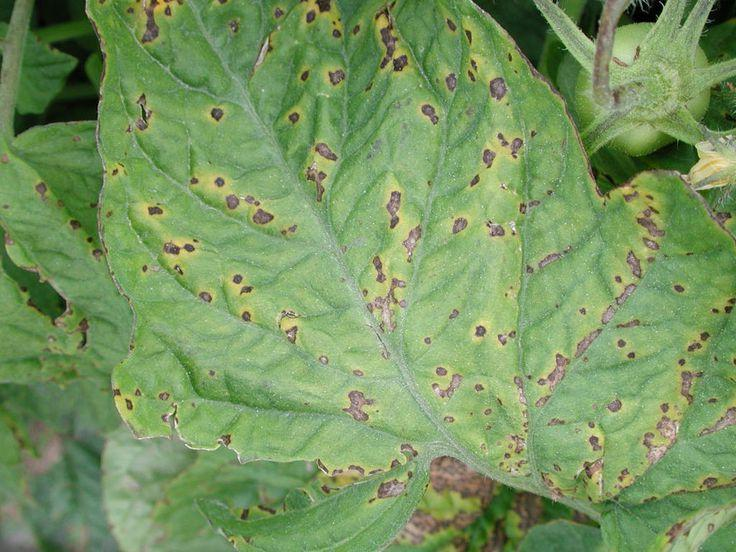Tomato leaf bacterial spot: (54, 1, 725, 533)
